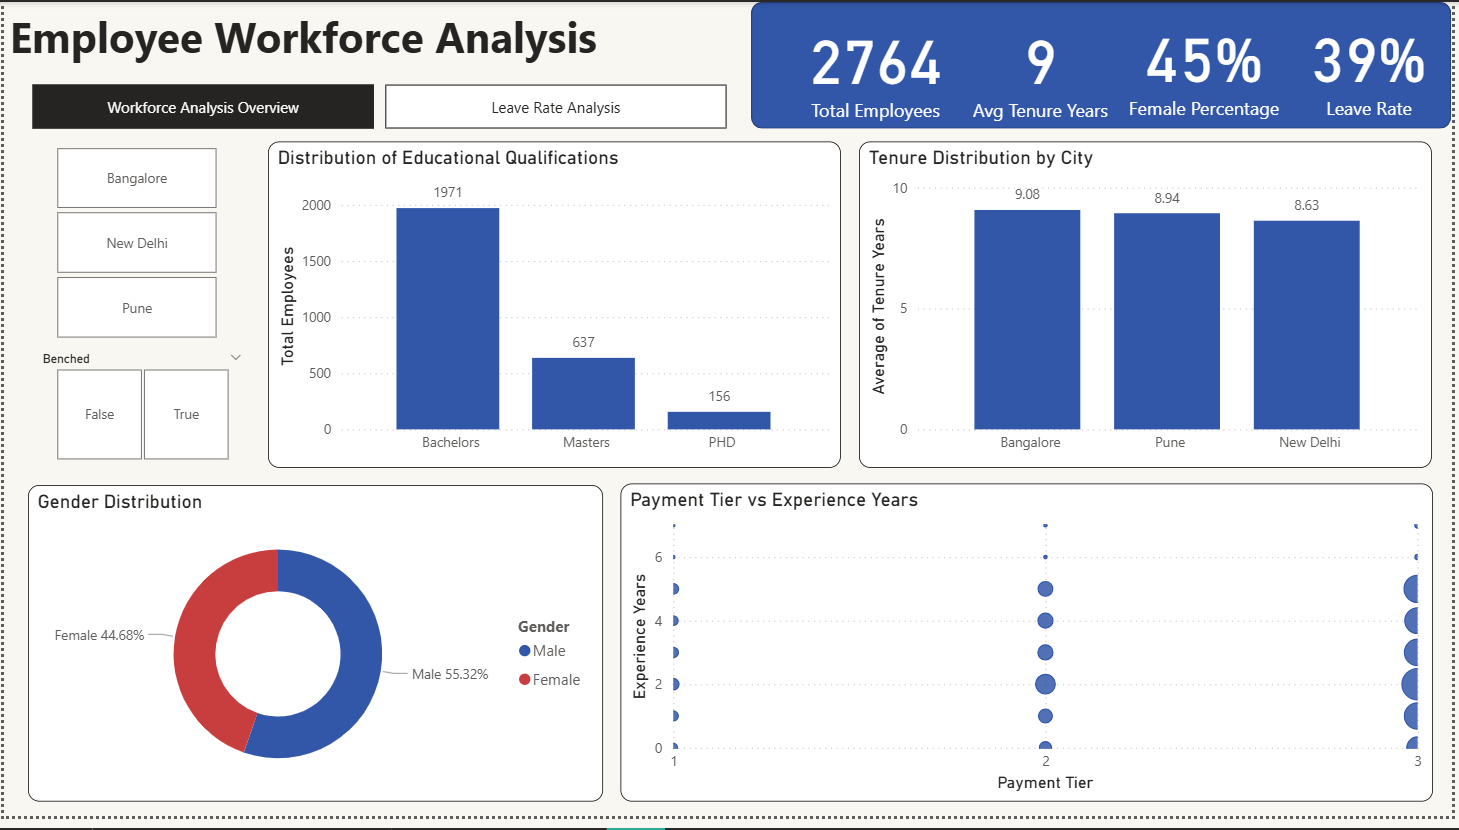

The dashboard page shown, as its layout file describes it:
{"tool":"powerbi","page":{"name":"Workforce Analysis Overview","canvas":[1280,720],"ordinal":0},"visuals":[{"type":"textbox","box":[0,0,641.1,72.6],"z":3000},{"type":"shape","box":[660.2,0,619.3,112],"z":4000},{"type":"card","fields":{"Values":["cleaned_employee_data.Overall Leave Rate"]},"box":[1134.1,0,145.4,110.5],"z":5000},{"type":"card","fields":{"Values":["cleaned_employee_data.Female Percentage"]},"box":[988.8,0,145.4,110.5],"z":5500},{"type":"card","fields":{"Values":["cleaned_employee_data.Average Tenure Years"]},"box":[843.4,1.5,145.4,110.5],"z":6000},{"type":"card","fields":{"Values":["cleaned_employee_data.Total Employees"]},"box":[698,1.5,145.4,110.5],"z":6500},{"type":"clusteredColumnChart","title":"Distribution of Educational Qualifications","fields":{"Category":["cleaned_employee_data.Education"],"Y":["cleaned_employee_data.Total Employees"]},"box":[233.7,123.2,506.8,289],"z":6501},{"type":"donutChart","title":"Gender Distribution","fields":{"Category":["cleaned_employee_data.Gender"],"Y":["cleaned_employee_data.Total Employees"]},"box":[21.2,427,508.8,280.1],"z":6502},{"type":"clusteredColumnChart","title":"Tenure Distribution by City","fields":{"Category":["cleaned_employee_data.City"],"Y":["Avg(cleaned_employee_data.Tenure Years)"]},"box":[756.3,123.2,506.8,289],"z":6504},{"type":"scatterChart","title":"Payment Tier vs Experience Years","fields":{"X":["cleaned_employee_data.Payment Tier"],"Y":["cleaned_employee_data.Experience Years"],"Size":["cleaned_employee_data.Total Employees"]},"box":[544.7,426.3,718.4,281.1],"z":6505},{"type":"slicer","fields":{"Values":["cleaned_employee_data.City"]},"box":[21.2,122.7,190.8,181.7],"z":6506},{"type":"slicer","fields":{"Values":["cleaned_employee_data.EverBenched"]},"box":[21.2,304.4,201.4,107.5],"z":6507},{"type":"pageNavigator","box":[25.3,72.6,615.8,39.5],"z":6510}]}

Visuals, with their boxes in screenshot pixels (x1, y1, x2, y2), scaled from the page's 1280x720 canvas onto the 1459x830 screenshot:
textbox: 0, 0, 731, 84
shape: 753, 0, 1458, 129
card - cleaned_employee_data.Overall Leave Rate: 1293, 0, 1458, 127
card - cleaned_employee_data.Female Percentage: 1127, 0, 1293, 127
card - cleaned_employee_data.Average Tenure Years: 961, 2, 1127, 129
card - cleaned_employee_data.Total Employees: 796, 2, 961, 129
"Distribution of Educational Qualifications" clusteredColumnChart: 266, 142, 844, 475
"Gender Distribution" donutChart: 24, 492, 604, 815
"Tenure Distribution by City" clusteredColumnChart: 862, 142, 1440, 475
"Payment Tier vs Experience Years" scatterChart: 621, 491, 1440, 815
slicer - cleaned_employee_data.City: 24, 141, 242, 351
slicer - cleaned_employee_data.EverBenched: 24, 351, 254, 475
pageNavigator: 29, 84, 731, 129
